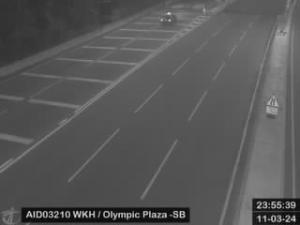vehicle: (161, 13, 177, 25)
